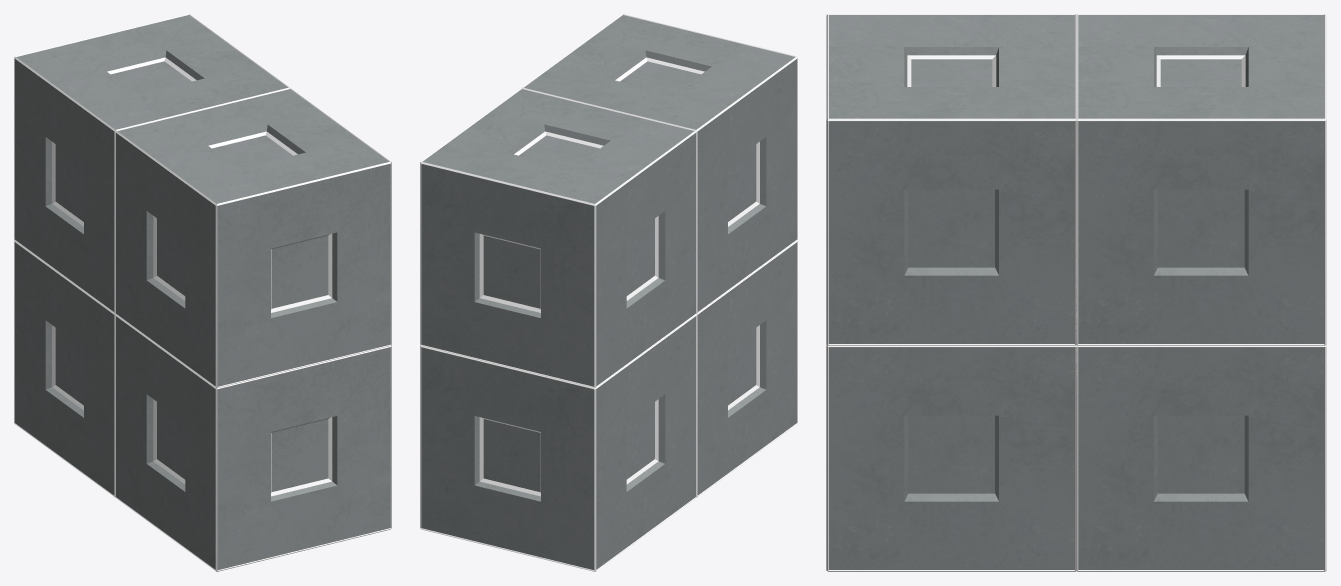
The picture shows the model from 3 angles, left to right: view 1: azimuth 30°, elevation 25°; view 2: azimuth 150°, elevation 25°; view 3: azimuth 270°, elevation 25°; orthographic projection. The views are drawn at different scales.
Visible parts, largest first — view 1: Cube_4 4*4*4м; view 2: Cube_4 4*4*4м; view 3: Cube_4 4*4*4м.
Boxes of the visible parts, x1,y1,x2,y2 form: Cube_4 4*4*4м: [14, 14, 391, 571]; Cube_4 4*4*4м: [420, 14, 797, 571]; Cube_4 4*4*4м: [826, 14, 1326, 571].
Bounding box in the file's own units: 403 × 803 × 803.
Materials: 2 (1 with a texture image).
